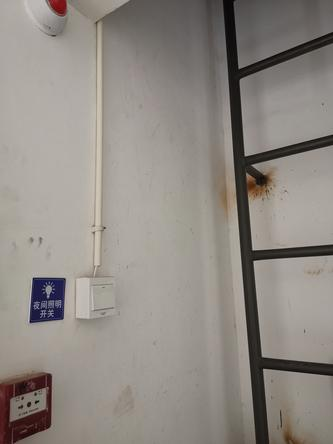switch: (88, 279, 119, 315)
